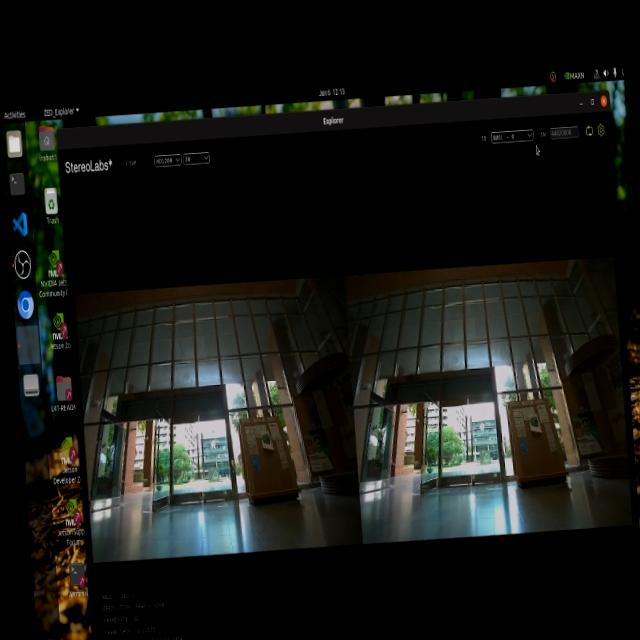green: (259, 432, 275, 451), (530, 412, 540, 438)
